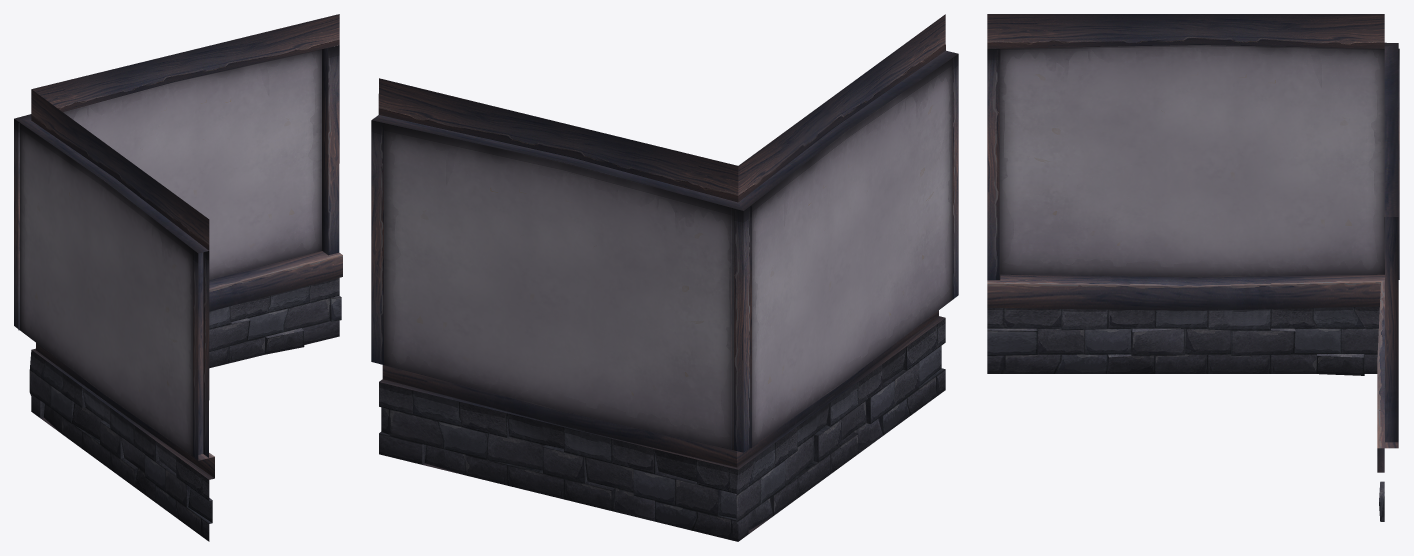
The model's file is WallCorner_1sided_detailed.fbx.
3 views of the same model, side by side, from view 1: azimuth 30°, elevation 25°; view 2: azimuth 150°, elevation 25°; view 3: azimuth 270°, elevation 25° (orthographic). The views are drawn at different scales.
Parts seen in each view (by area): view 1: WallCorner_1sided_detailed; view 2: WallCorner_1sided_detailed; view 3: WallCorner_1sided_detailed.
Part boxes in pixels (<box>): WallCorner_1sided_detailed: <box>14,14,342,541</box>; WallCorner_1sided_detailed: <box>371,14,958,541</box>; WallCorner_1sided_detailed: <box>987,14,1399,521</box>.
Bounding box in the file's own units: 0.6519 × 0.6266 × 0.6501.
